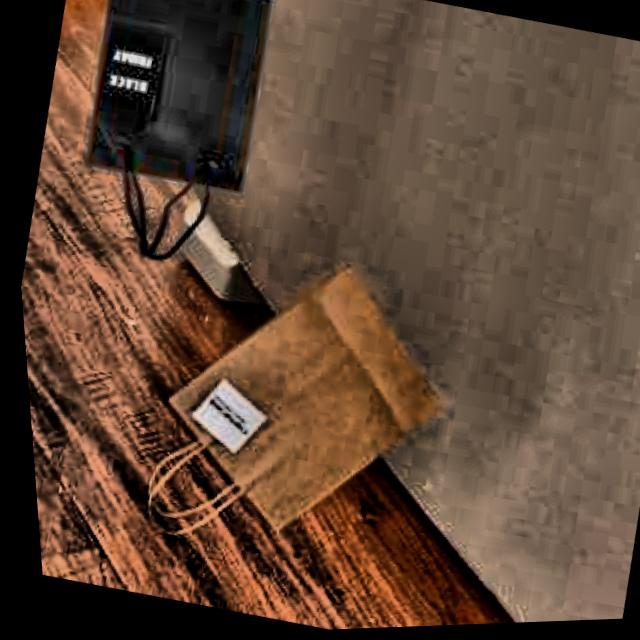Paper-bag: (102, 226, 473, 616), (42, 0, 297, 282)
